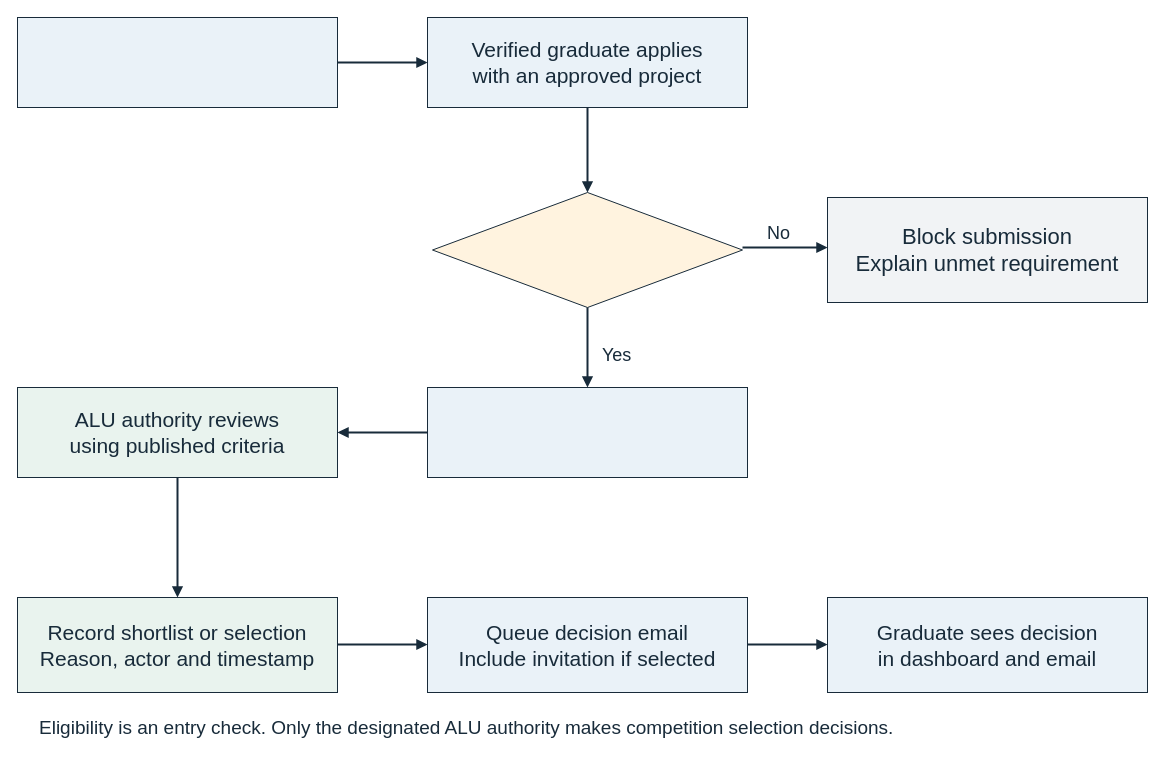
This 1165x763 diagram has some shape labels left out. The centre of each missing label's shape, as x and y in pixels:
Admin publishes opportunity Criteria and deadline: the point at 177,62
Deadline and criteria satisfied?: the point at 587,250
Save application Show to ALU authority: the point at 587,432
